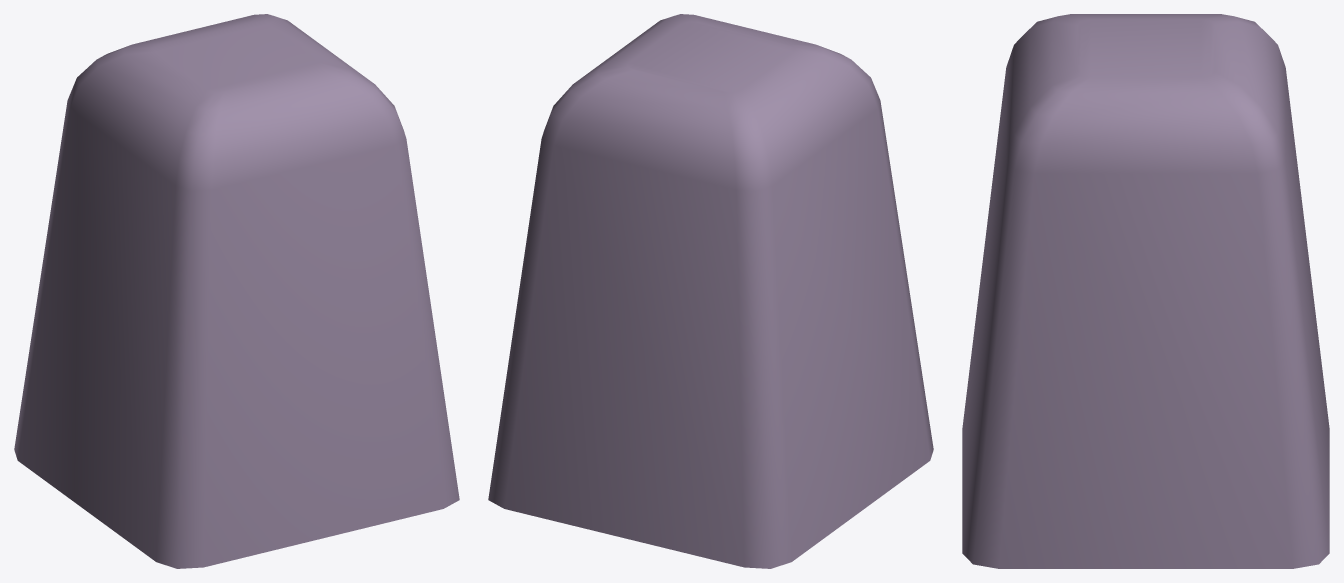
Rendered from SM_Stone_Mid3.fbx.
3 views of the same model, side by side, from view 1: azimuth 30°, elevation 25°; view 2: azimuth 150°, elevation 25°; view 3: azimuth 270°, elevation 25° (orthographic). The views are drawn at different scales.
Parts seen in each view (by area): view 1: SM_Stone_Mid3; view 2: SM_Stone_Mid3; view 3: SM_Stone_Mid3.
Part boxes in pixels (x1,y1,x2,y2): SM_Stone_Mid3: (14,14,459,568); SM_Stone_Mid3: (488,14,933,568); SM_Stone_Mid3: (962,14,1329,568).
Size of the model in its own units: 2 by 2.66 by 2.
